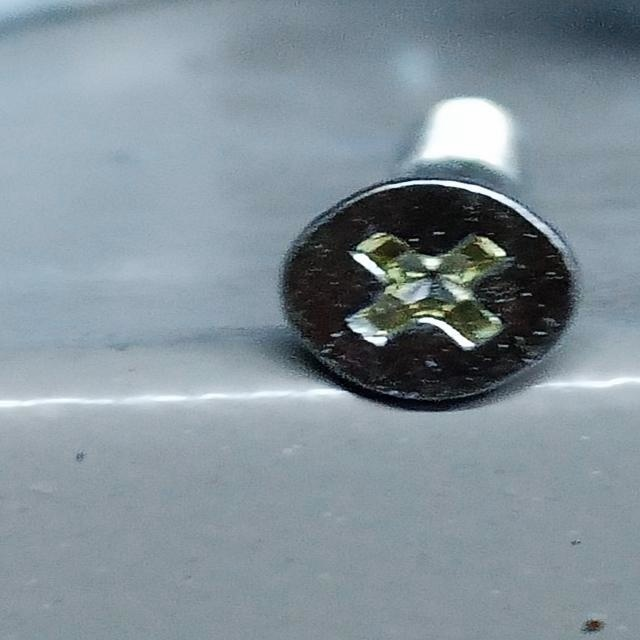phillips: (282, 179, 579, 404)
